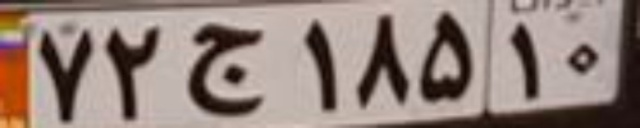0: (563, 42, 603, 74)
1: (302, 18, 337, 110), (506, 22, 541, 99)
2: (105, 22, 162, 119)
5: (417, 10, 472, 101)
7: (36, 27, 98, 123)
8: (354, 13, 410, 109)
jim: (187, 24, 268, 114)
